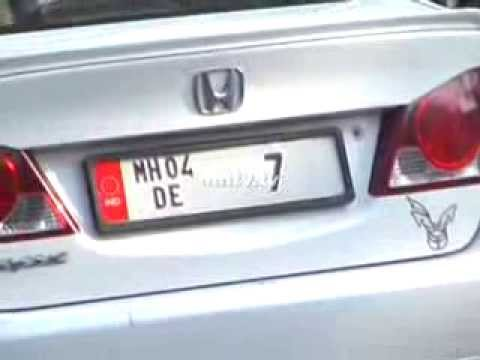number_plate: (73, 125, 358, 230)
